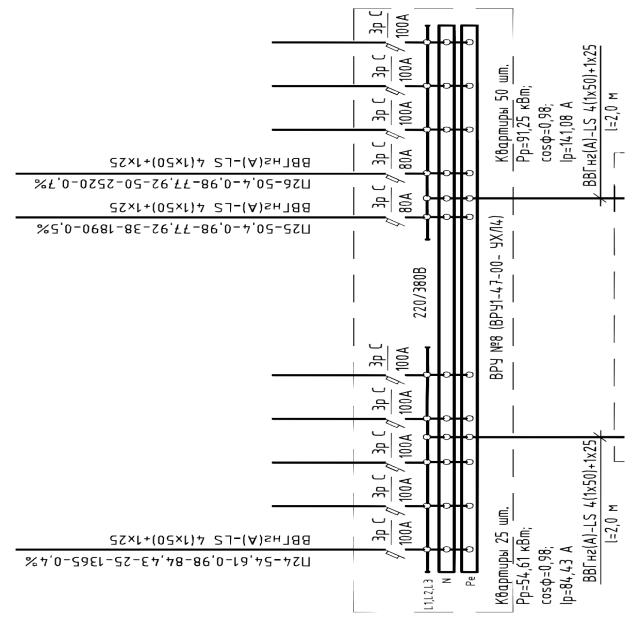-: (488, 210, 506, 382), (368, 517, 418, 546), (366, 342, 413, 372), (369, 140, 416, 170), (369, 96, 416, 126), (368, 472, 415, 502), (368, 386, 415, 416), (367, 54, 414, 84), (366, 8, 412, 38), (369, 184, 415, 214), (371, 429, 417, 459)
QF: (381, 458, 410, 473), (378, 214, 407, 229), (383, 125, 412, 140), (380, 416, 409, 431), (382, 372, 411, 387), (382, 546, 411, 560), (382, 39, 411, 53), (383, 503, 411, 517), (381, 169, 409, 183), (382, 83, 410, 97)
